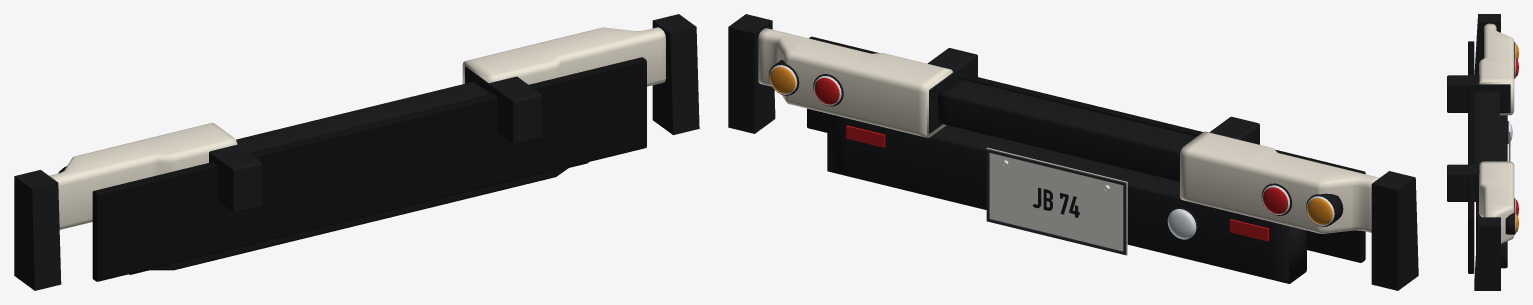
File: rearBumper_damd_roots_rear.glb
3 renders of one model, left to right at view 1: azimuth 30°, elevation 25°; view 2: azimuth 150°, elevation 25°; view 3: azimuth 270°, elevation 25°, orthographic. The views are drawn at different scales.
Visible parts, largest first — view 1: valance.025, endBox-1.002, endBox1.002, extension-1, extension1, middle.001, lower.006, mount1.023, mount-1.023; view 2: lower.006, middle.001, endBox-1.002, endBox1.002, plate.028, extension-1, extension1, valance.025, mount1.023, mount-1.023, reflector-1.002, reflector1.002 (+8 smaller); view 3: endBox1.002, endBox-1.002, middle.001, extension1, mount-1.023, valance.025, mount1.023, lower.006, extension-1, lampCan1a.001.
Part boxes in pixels (x1,y1,x2,y2): valance.025: [92, 57, 646, 281]; endBox-1.002: [49, 122, 237, 229]; endBox1.002: [462, 27, 665, 86]; extension-1: [14, 170, 61, 290]; extension1: [652, 14, 699, 134]; middle.001: [236, 81, 490, 152]; lower.006: [129, 162, 588, 274]; mount1.023: [465, 66, 541, 144]; mount-1.023: [209, 145, 262, 212]; lower.006: [827, 113, 1306, 283]; middle.001: [938, 78, 1196, 181]; endBox-1.002: [1180, 131, 1379, 233]; endBox1.002: [758, 28, 952, 137]; plate.028: [986, 147, 1127, 255]; extension-1: [1371, 171, 1418, 290]; extension1: [728, 14, 775, 133]; valance.025: [807, 36, 1365, 262]; mount1.023: [927, 48, 977, 133]; mount-1.023: [1209, 116, 1259, 144]; reflector-1.002: [1229, 219, 1268, 241]; reflector1.002: [846, 125, 885, 147]; endBox1.002: [1479, 161, 1514, 243]; endBox-1.002: [1479, 23, 1514, 115]; middle.001: [1474, 90, 1499, 164]; extension1: [1474, 217, 1500, 290]; mount-1.023: [1447, 75, 1510, 112]; valance.025: [1468, 41, 1474, 273]; mount1.023: [1447, 164, 1479, 201]; lower.006: [1476, 115, 1507, 268]; extension-1: [1474, 14, 1500, 75]; lampCan1a.001: [1505, 212, 1515, 234].
Size of the model in its own units: 1.57 by 0.2805 by 0.2247.
